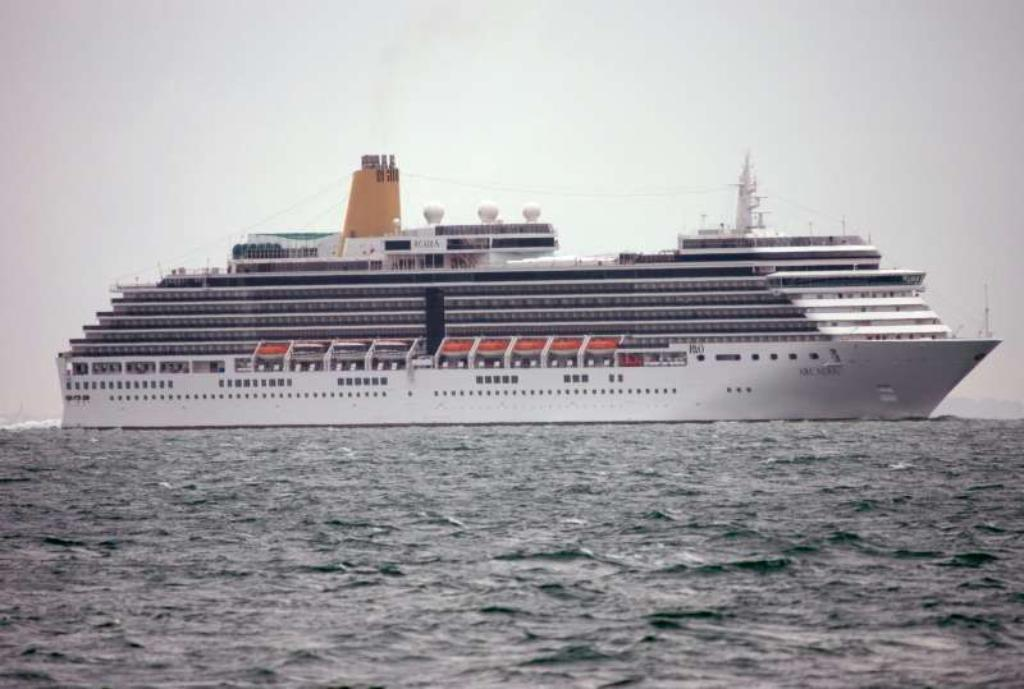PassengerShip: (45, 128, 1011, 436)
